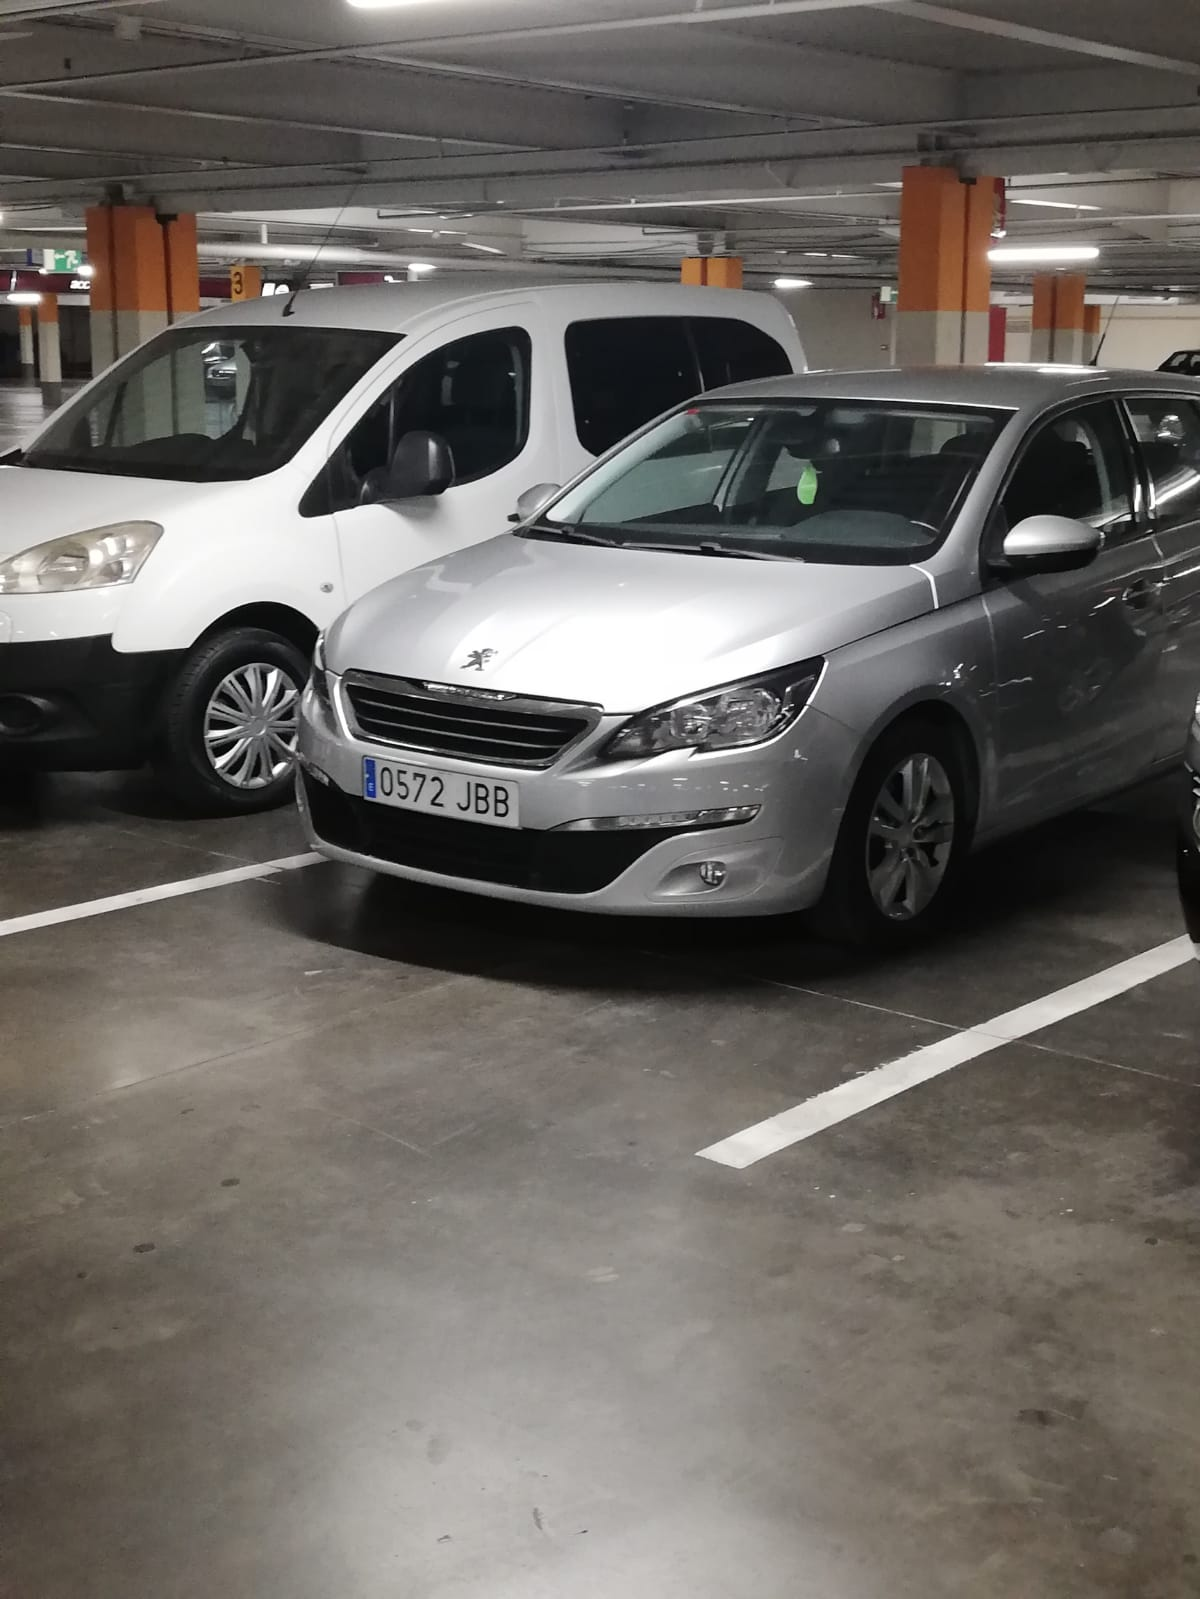Car: (306, 376, 1173, 964)
Plate: (366, 754, 517, 796)
